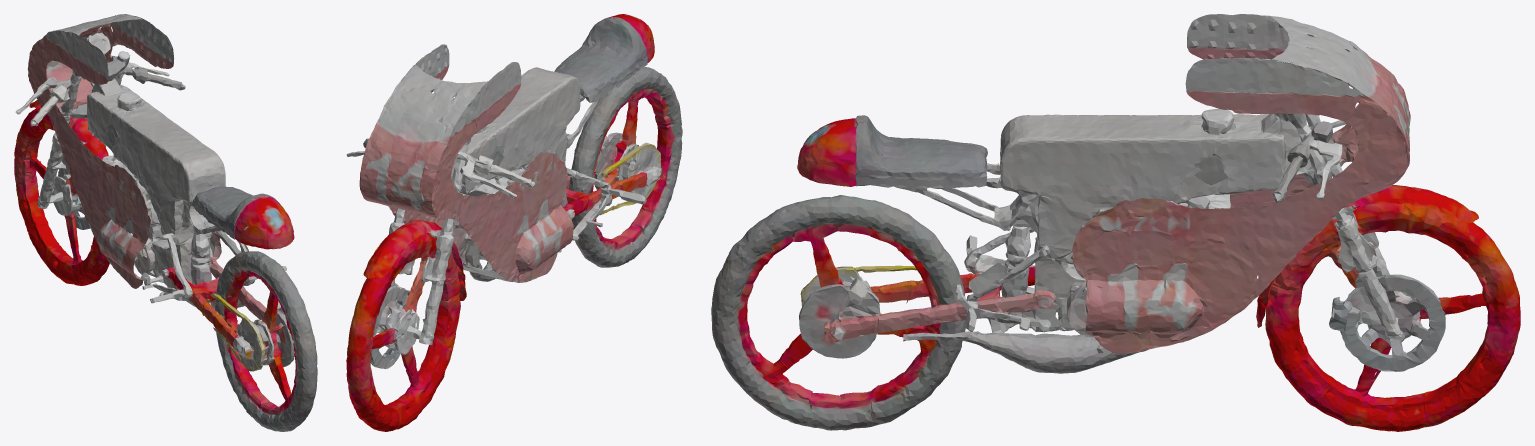
3 views of the same model, side by side, from view 1: azimuth 30°, elevation 25°; view 2: azimuth 150°, elevation 25°; view 3: azimuth 270°, elevation 25° (orthographic). The views are drawn at different scales.
Parts seen in each view (by area): view 1: defaultobject; view 2: defaultobject; view 3: defaultobject.
Part boxes in pixels (left/top/right/bottom): defaultobject: left=14, top=14, right=317, bottom=431; defaultobject: left=346, top=14, right=682, bottom=431; defaultobject: left=711, top=14, right=1520, bottom=431.
Size of the model in its own units: 0.2895 by 0.5113 by 0.9495.
